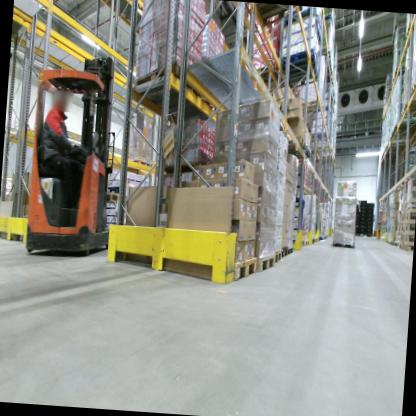forklift: (17, 37, 123, 268)
pallet: (157, 250, 258, 291), (130, 59, 203, 114), (110, 239, 159, 272), (253, 4, 304, 31), (279, 62, 321, 92), (277, 45, 320, 74), (254, 65, 287, 92), (281, 133, 306, 155), (254, 251, 276, 275), (99, 189, 125, 208), (332, 236, 361, 253), (300, 97, 325, 116), (288, 145, 312, 163), (398, 105, 416, 119), (291, 237, 310, 249), (403, 96, 416, 113), (272, 248, 283, 267), (409, 77, 416, 98), (286, 245, 296, 256), (403, 242, 414, 252), (282, 245, 289, 260), (413, 38, 416, 59), (398, 242, 404, 250), (393, 241, 399, 248)
